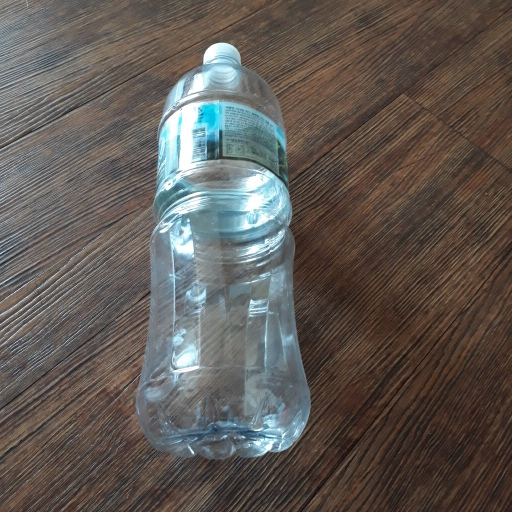Plastic_0: (139, 40, 313, 464)
